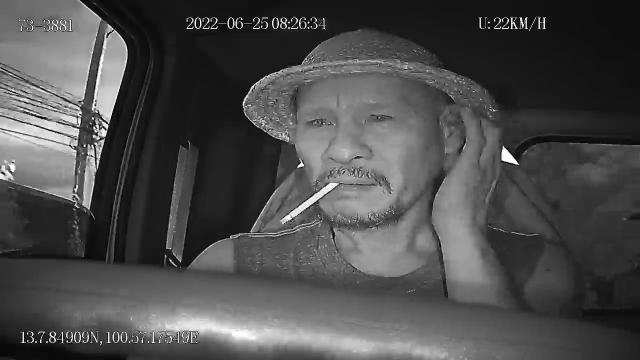SafeDriving: (357, 103, 400, 130), (301, 108, 338, 132)
Smoking: (281, 180, 341, 226)
